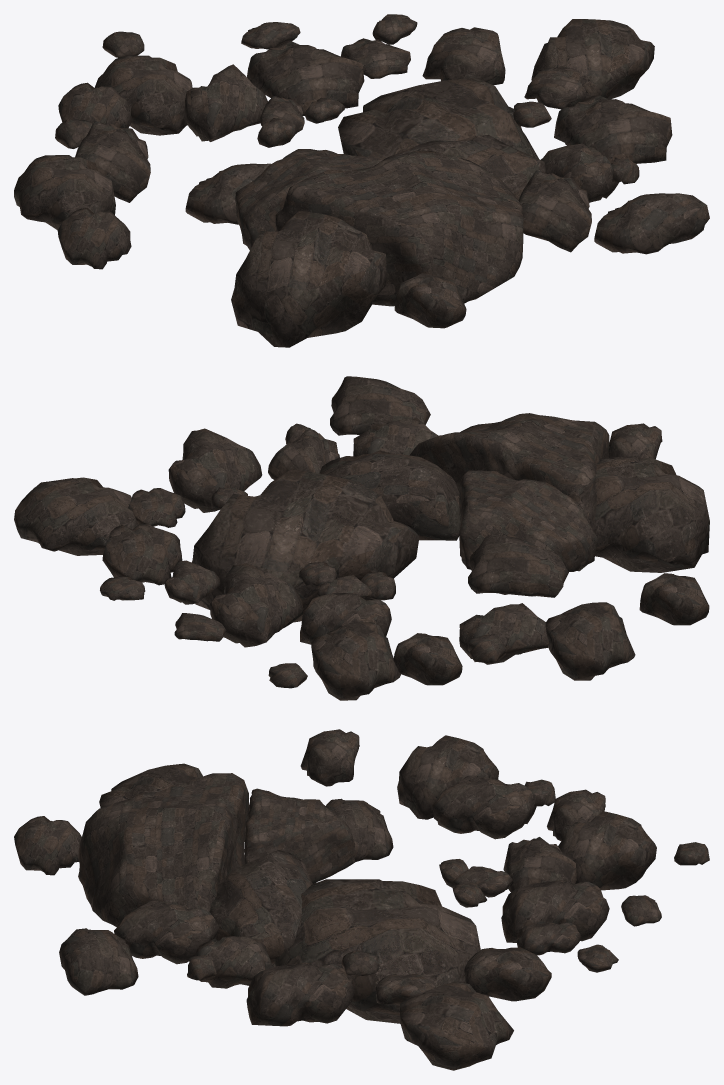
File: aeg270_516.glb
3 views of the same model, one above another, from view 1: azimuth 30°, elevation 25°; view 2: azimuth 150°, elevation 25°; view 3: azimuth 270°, elevation 25° (orthographic). The views are drawn at different scales.
Parts seen in each view (by area): view 1: mesh[1], mesh[0]; view 2: mesh[1], mesh[0]; view 3: mesh[1], mesh[0].
Boxes of the visible parts, x1,y1,x2,y2 form: mesh[1]: [14, 14, 709, 347]; mesh[0]: [235, 149, 523, 306]; mesh[1]: [14, 376, 709, 700]; mesh[0]: [410, 413, 609, 571]; mesh[1]: [14, 729, 709, 1070]; mesh[0]: [78, 773, 355, 927].
Size of the model in its own units: 9.36 by 2.16 by 9.06.
Materials: 2 (2 with a texture image).
